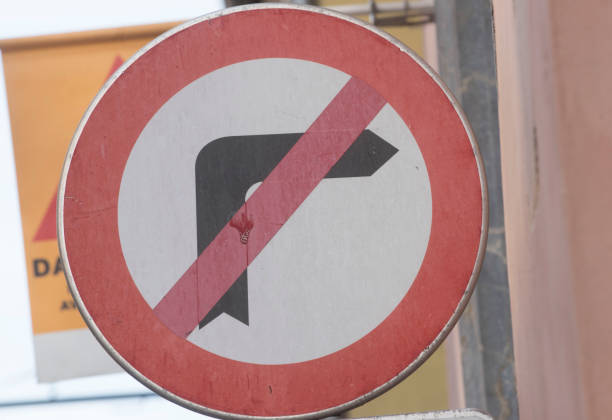saga_girilmez: (59, 4, 482, 417)
